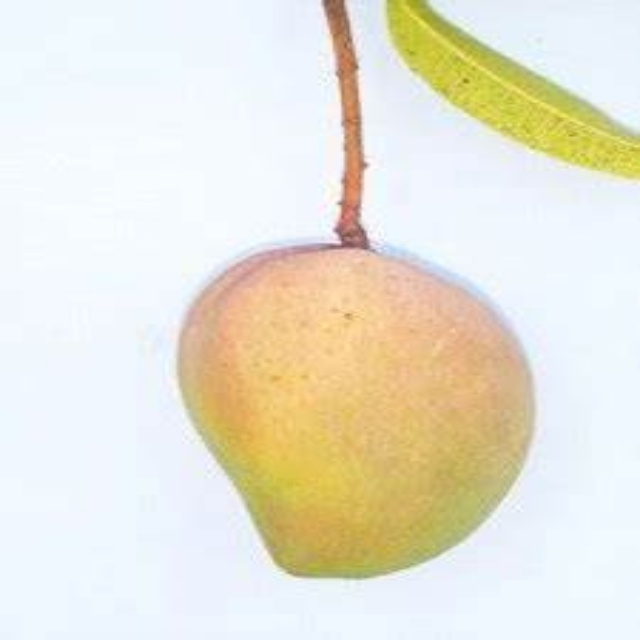mango: (173, 238, 543, 581)
